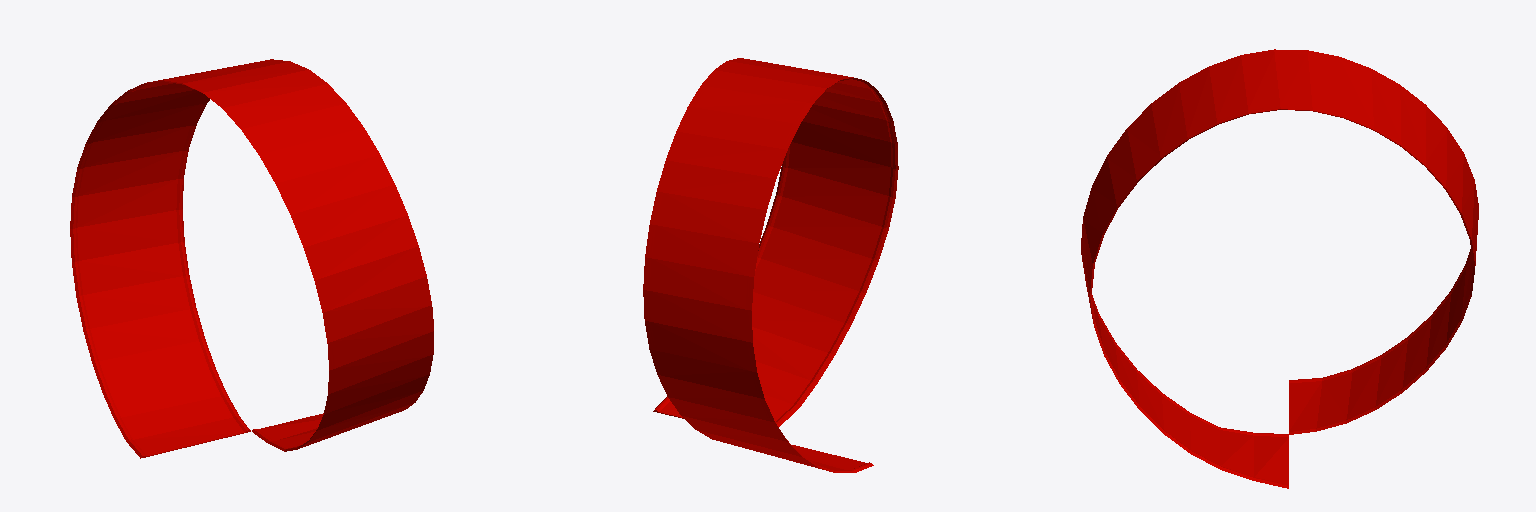
3 views of the same model, side by side, from view 1: azimuth 30°, elevation 25°; view 2: azimuth 150°, elevation 25°; view 3: azimuth 270°, elevation 25° (orthographic).
Parts seen in each view (by area): view 1: AV_loop_big_55_LoopBig; view 2: AV_loop_big_55_LoopBig; view 3: AV_loop_big_55_LoopBig.
Boxes of the visible parts, <box> form: AV_loop_big_55_LoopBig: <box>70,59,433,458</box>; AV_loop_big_55_LoopBig: <box>643,58,898,472</box>; AV_loop_big_55_LoopBig: <box>1081,49,1478,488</box>.
Bounding box in the file's own units: 7.5 × 11.59 × 11.69.